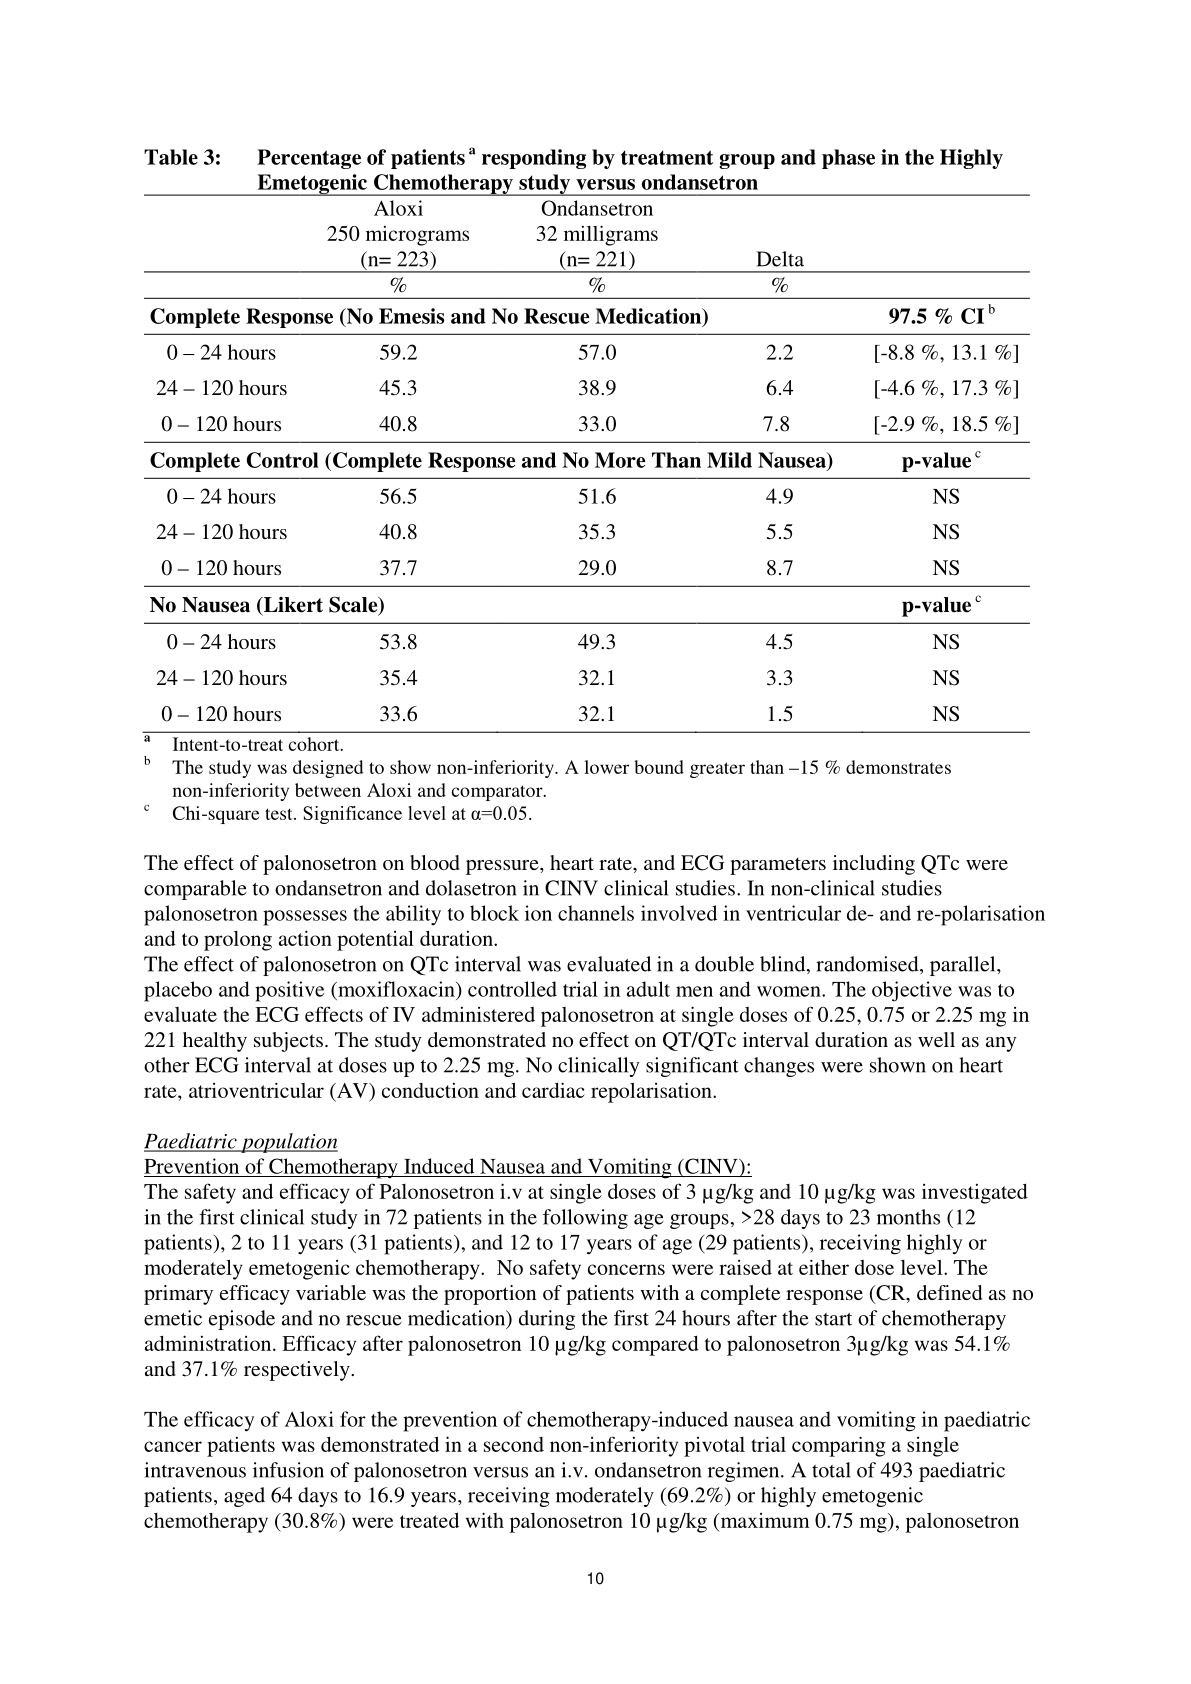partial_lined_merged_cells: (143, 193, 1032, 734)
